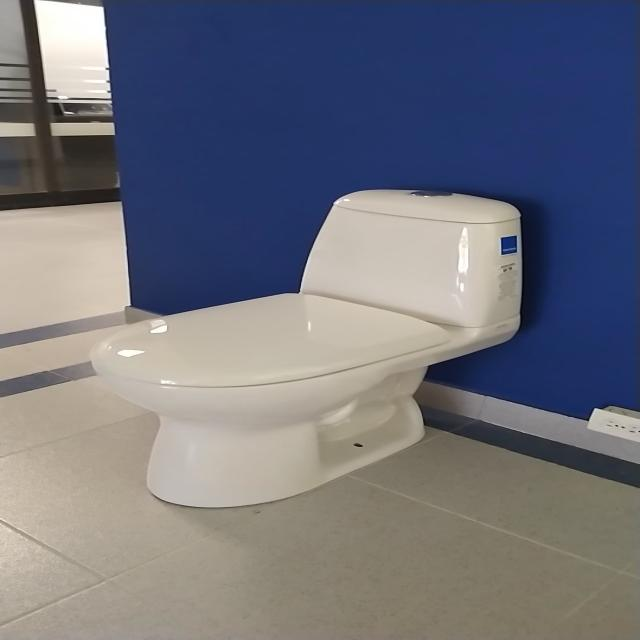toilet: (89, 188, 524, 508)
